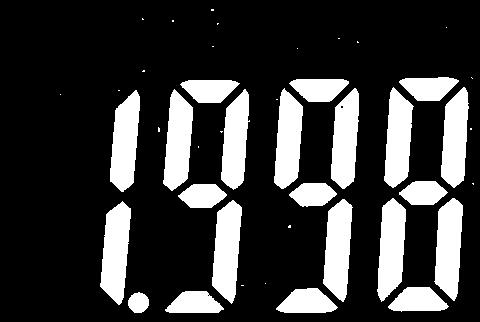1: (99, 85, 140, 305)
8: (378, 76, 472, 309)
9: (270, 73, 363, 319), (161, 77, 251, 314)
dot: (127, 292, 152, 314)
